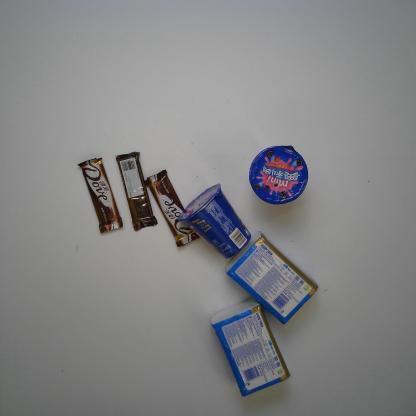Chocolate: (144, 167, 200, 249), (76, 155, 126, 236), (114, 150, 158, 232)
Dessert: (177, 181, 253, 260), (246, 143, 310, 208)
Tissue: (223, 230, 319, 326), (208, 298, 292, 398)
